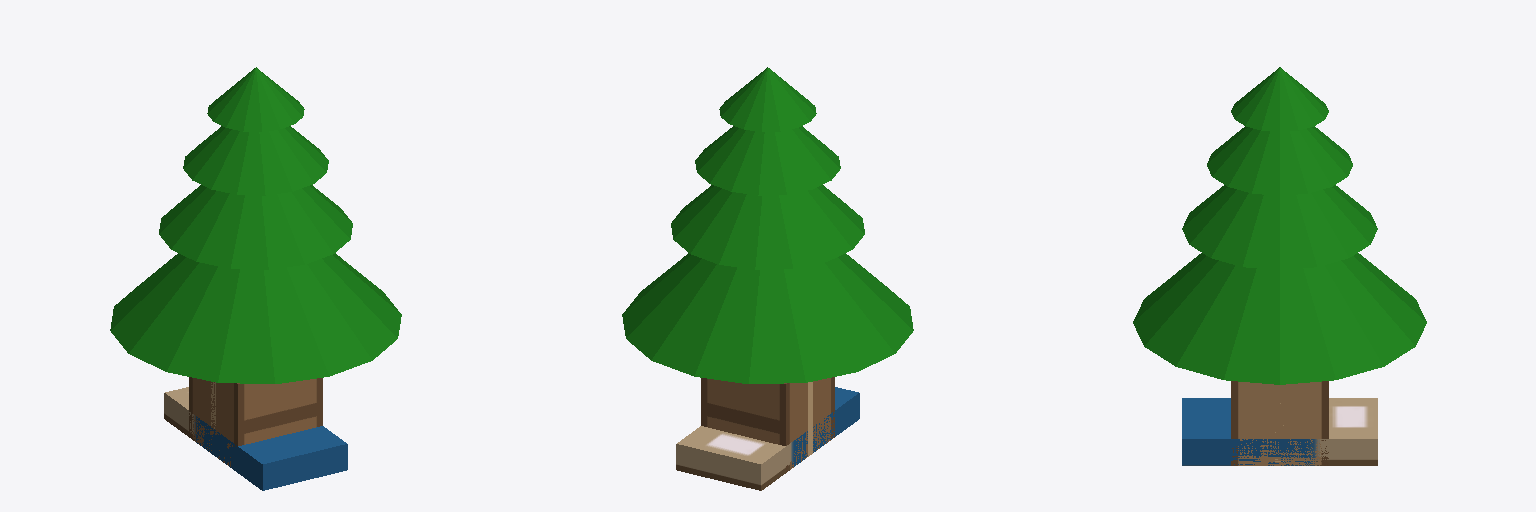
3 views of the same model, side by side, from view 1: azimuth 30°, elevation 25°; view 2: azimuth 150°, elevation 25°; view 3: azimuth 270°, elevation 25° (orthographic).
Parts seen in each view (by area): view 1: Tree_Cone.003, Brick_Cube.001, Bed_Cube.002; view 2: Tree_Cone.003, Brick_Cube.001, Bed_Cube.002; view 3: Tree_Cone.003, Bed_Cube.002, Brick_Cube.001.
Part boxes in pixels (x1,y1,x2,y2): Tree_Cone.003: (110,67,401,383); Brick_Cube.001: (189,377,322,466); Bed_Cube.002: (164,387,347,490); Tree_Cone.003: (622,67,913,383); Brick_Cube.001: (701,377,834,472); Bed_Cube.002: (676,387,859,490); Tree_Cone.003: (1133,67,1426,384); Bed_Cube.002: (1182,398,1377,465); Brick_Cube.001: (1231,381,1328,465).
Bounding box in the file's own units: 3 × 4.25 × 3.
8 materials, 1 textured.